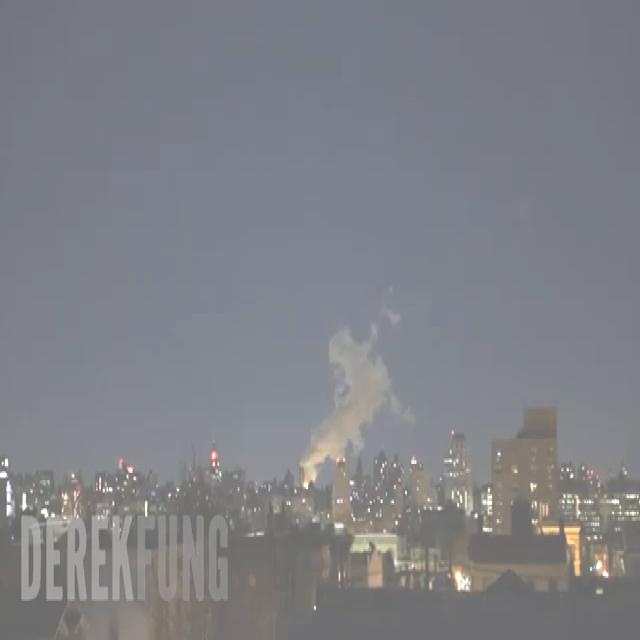smoke: (301, 286, 432, 476)
